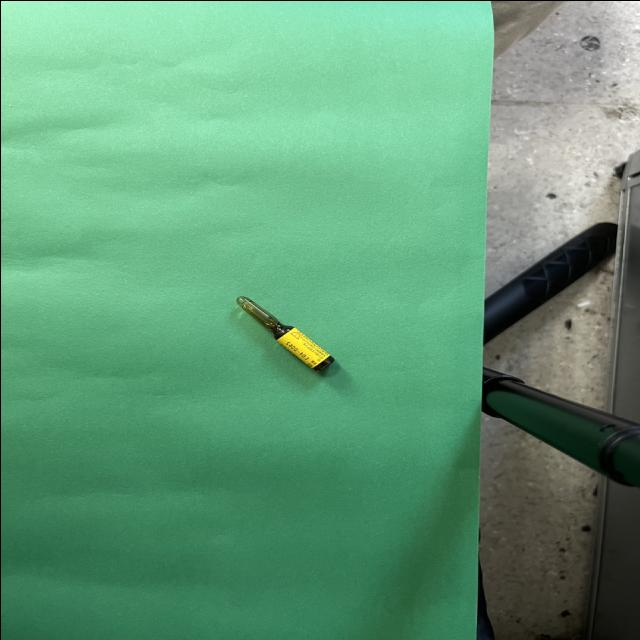Ampoules: (235, 296, 333, 370)
